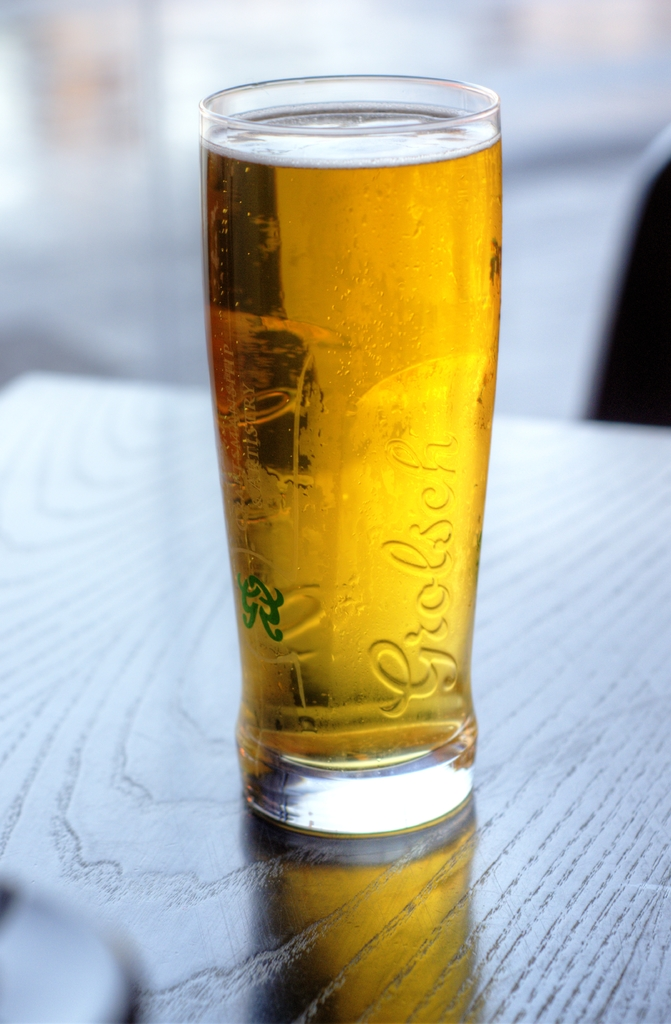Beer: (210, 108, 497, 763)
